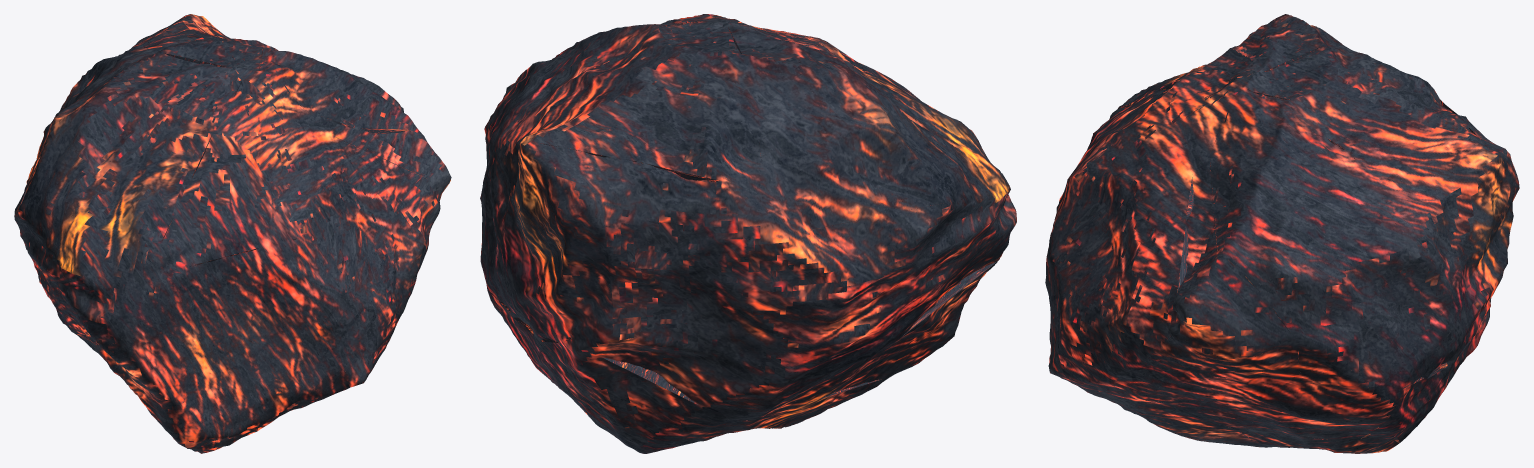
The model's file is Hazard_Rock_Fractured.fbx.
3 renders of one model, left to right at view 1: azimuth 30°, elevation 25°; view 2: azimuth 150°, elevation 25°; view 3: azimuth 270°, elevation 25°, orthographic. The views are drawn at different scales.
Parts seen in each view (by area): view 1: HazardRock, HazardRock_cell.033, HazardRock_cell.005, HazardRock_cell.014, HazardRock_cell.025, HazardRock_cell.017, HazardRock_cell.019, HazardRock_cell.010, HazardRock_cell.021, HazardRock_cell.004, HazardRock_cell.031, HazardRock_cell.016 (+2 smaller); view 2: HazardRock, HazardRock_cell.011, HazardRock_cell.005, HazardRock_cell.010, HazardRock_cell.001, HazardRock_cell.025, HazardRock_cell.019, HazardRock_cell.023, HazardRock_cell.008, HazardRock_cell.016, HazardRock_cell.032, HazardRock_cell.022 (+2 smaller); view 3: HazardRock, HazardRock_cell.025, HazardRock_cell.033, HazardRock_cell.024, HazardRock_cell.017, HazardRock_cell.005, HazardRock_cell.010, HazardRock_cell.034, HazardRock_cell.023, HazardRock_cell.008, HazardRock_cell.021, HazardRock_cell.015 (+2 smaller).
Boxes of the visible parts, x1=… form: HazardRock: x1=14, y1=14, x2=449, y2=453; HazardRock_cell.033: x1=147, y1=71, x2=341, y2=280; HazardRock_cell.005: x1=21, y1=52, x2=246, y2=300; HazardRock_cell.014: x1=134, y1=238, x2=335, y2=376; HazardRock_cell.025: x1=258, y1=47, x2=413, y2=129; HazardRock_cell.017: x1=329, y1=134, x2=438, y2=353; HazardRock_cell.019: x1=20, y1=158, x2=139, y2=346; HazardRock_cell.010: x1=62, y1=15, x2=275, y2=109; HazardRock_cell.021: x1=280, y1=351, x2=383, y2=415; HazardRock_cell.004: x1=154, y1=343, x2=294, y2=396; HazardRock_cell.031: x1=153, y1=379, x2=283, y2=451; HazardRock_cell.016: x1=75, y1=332, x2=168, y2=416; HazardRock: x1=480, y1=14, x2=1016, y2=453; HazardRock_cell.011: x1=564, y1=193, x2=814, y2=411; HazardRock_cell.005: x1=726, y1=20, x2=1007, y2=229; HazardRock_cell.010: x1=503, y1=18, x2=764, y2=198; HazardRock_cell.001: x1=520, y1=142, x2=748, y2=310; HazardRock_cell.025: x1=480, y1=14, x2=712, y2=215; HazardRock_cell.019: x1=808, y1=186, x2=1015, y2=363; HazardRock_cell.023: x1=481, y1=264, x2=728, y2=451; HazardRock_cell.008: x1=483, y1=137, x2=564, y2=315; HazardRock_cell.016: x1=795, y1=262, x2=996, y2=401; HazardRock_cell.032: x1=719, y1=310, x2=850, y2=420; HazardRock_cell.022: x1=773, y1=379, x2=881, y2=427; HazardRock: x1=1045, y1=14, x2=1519, y2=453; HazardRock_cell.025: x1=1210, y1=87, x2=1409, y2=372; HazardRock_cell.033: x1=1072, y1=74, x2=1245, y2=217; HazardRock_cell.024: x1=1175, y1=256, x2=1299, y2=378; HazardRock_cell.017: x1=1069, y1=173, x2=1264, y2=408; HazardRock_cell.005: x1=1118, y1=14, x2=1357, y2=108; HazardRock_cell.010: x1=1245, y1=46, x2=1491, y2=223; HazardRock_cell.034: x1=1204, y1=405, x2=1375, y2=453; HazardRock_cell.023: x1=1348, y1=312, x2=1489, y2=441; HazardRock_cell.008: x1=1353, y1=198, x2=1501, y2=378; HazardRock_cell.021: x1=1050, y1=355, x2=1203, y2=436; HazardRock_cell.015: x1=1185, y1=414, x2=1267, y2=446.
Size of the model in its own units: 3.29 by 2.81 by 3.12.
